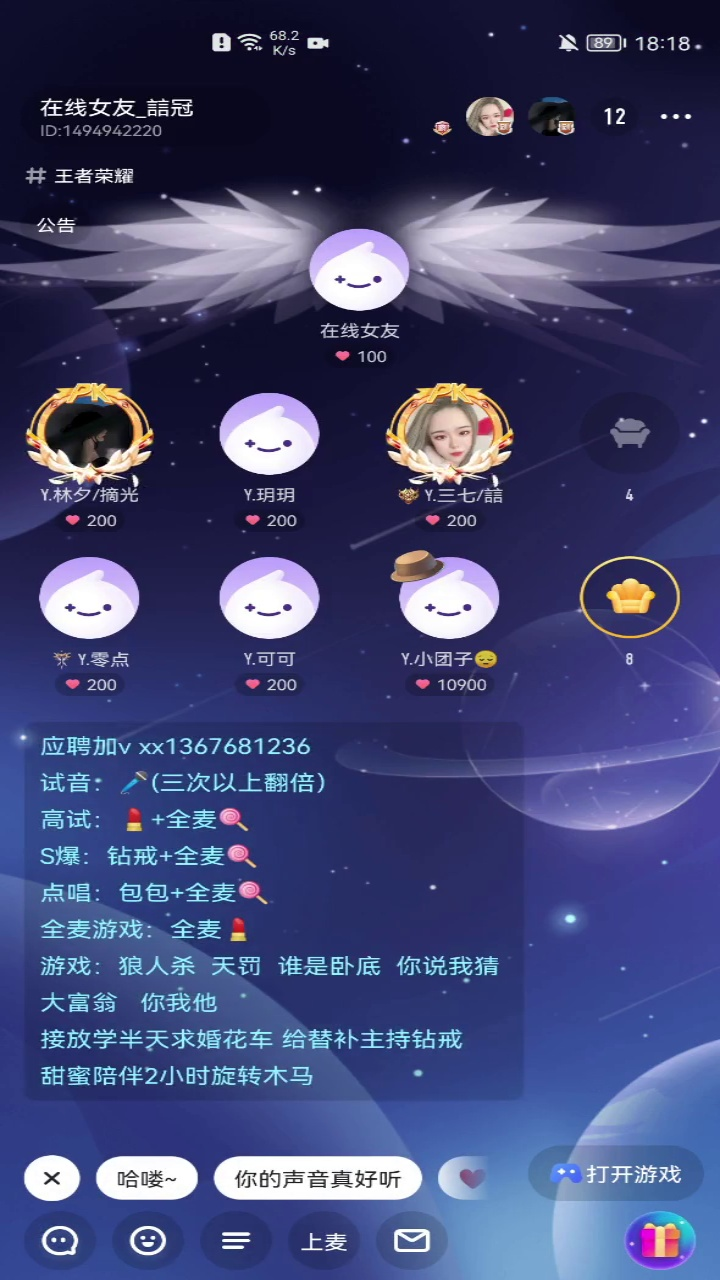avatar: (389, 544, 501, 640), (301, 226, 412, 314), (36, 554, 144, 641), (216, 553, 323, 640), (217, 392, 321, 476)
